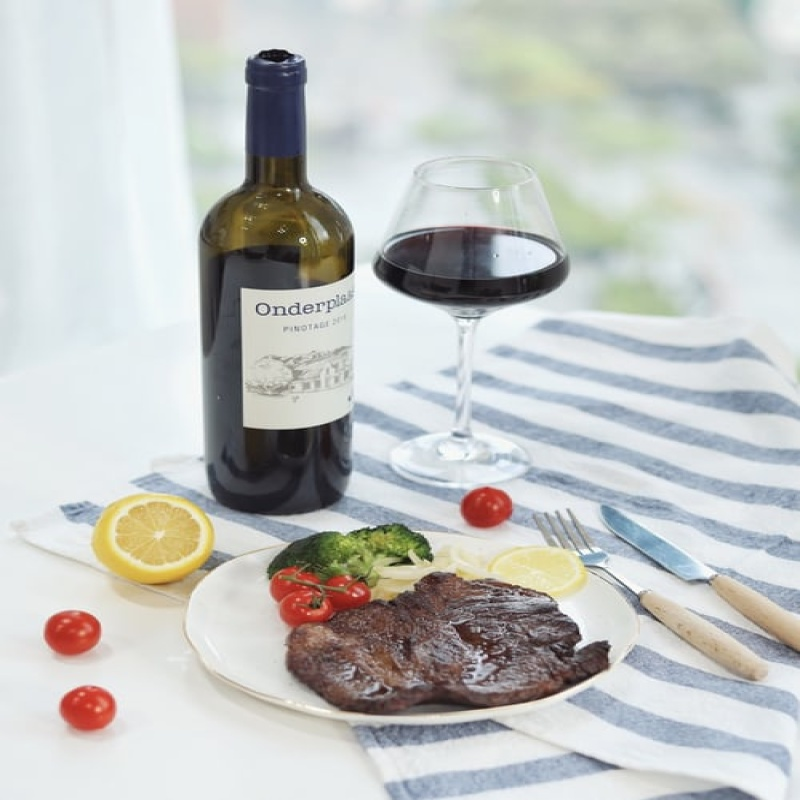wine: (195, 58, 354, 509)
